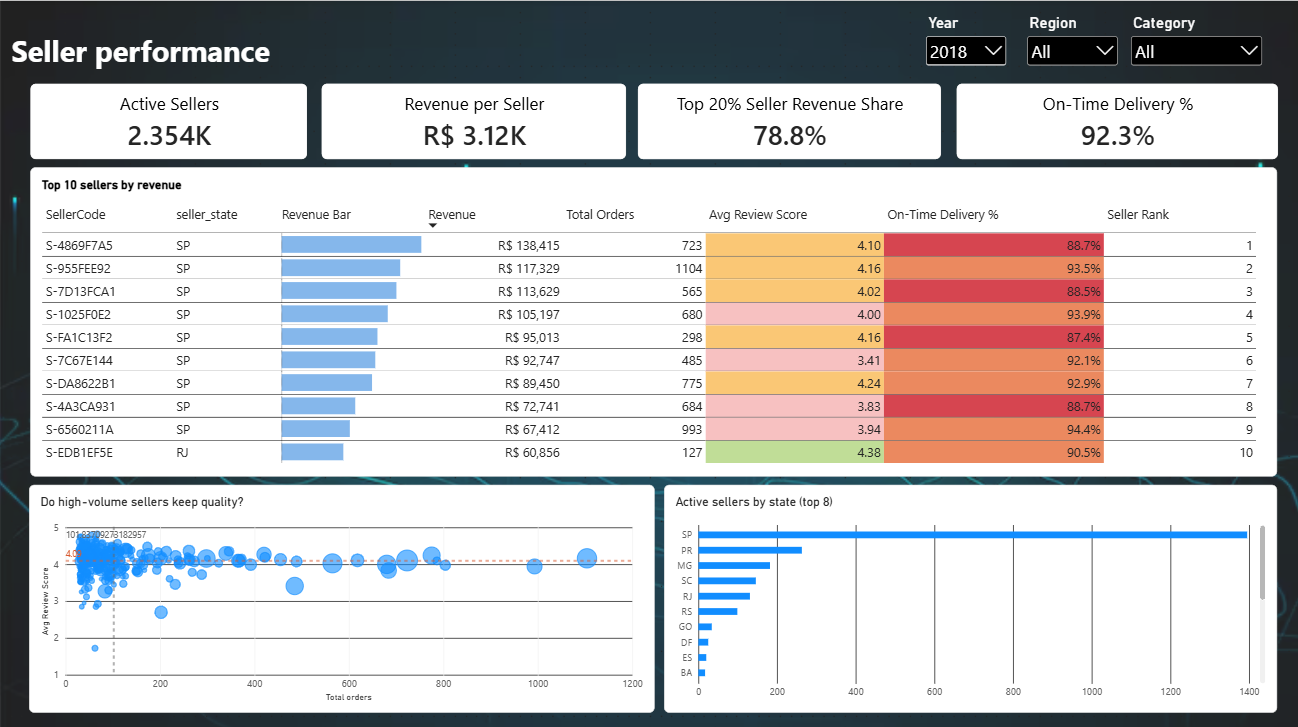

What the dashboard file says about the page in this screenshot:
{"tool":"powerbi","page":{"name":"Seller Performance","canvas":[1920,1080],"ordinal":2},"visuals":[{"type":"textbox","box":[18.8,45.2,512,73.4],"z":0},{"type":"slicer","fields":{"Values":["DimDate.Year"]},"box":[1364.6,18.3,128,100.6],"z":1000},{"type":"slicer","fields":{"Values":["DimState.Region"]},"box":[1513.8,18.5,143.1,101.6],"z":2000},{"type":"slicer","fields":{"Values":["DimProduct.Category"]},"box":[1666.3,18.3,203.1,84.9],"z":3000},{"type":"cardVisual","fields":{"Data":["_Measures.Active Sellers"]},"box":[46.1,121,409.1,112],"z":4000},{"type":"cardVisual","fields":{"Data":["_Measures.Revenue per Seller"]},"box":[476.2,121,450.3,112],"z":5000},{"type":"cardVisual","fields":{"Data":["_Measures.Top 20% Seller Revenue Share"]},"box":[942.7,121,448,112],"z":6000},{"type":"cardVisual","fields":{"Data":["_Measures.On-Time Delivery %"]},"box":[1415,121,475.4,112],"z":7000},{"type":"tableEx","title":"Top 10 sellers by revenue","fields":{"Values":["DimSeller.SellerCode","DimSeller.seller_state","DimDate.Revenue Bar","_Measures.Revenue","_Measures.Total Orders","_Measures.Avg Review Score","_Measures.On-Time Delivery %","_Measures.Seller Rank"]},"box":[46.1,245.8,1841.3,457],"z":8000},{"type":"scatterChart","title":"Do high-volume sellers keep quality?","fields":{"Category":["DimSeller.SellerCode"],"Size":["_Measures.Revenue"],"X":["_Measures.Total Orders"],"Y":["_Measures.Avg Review Score"]},"box":[45.2,715.3,924.2,336.9],"z":9000},{"type":"clusteredBarChart","title":"Active sellers by state (top 8)","fields":{"Category":["DimSeller.seller_state"],"Y":["_Measures.Active Sellers"]},"box":[982.6,715.3,905.4,336.9],"z":10000}]}

Visuals, with their boxes in screenshot pixels (x1, y1, x2, y2), scaled from the page's 1920x1080 canvas onto the 1298x727 screenshot:
textbox: pyautogui.locateOnScreen(13, 30, 359, 80)
slicer - DimDate.Year: pyautogui.locateOnScreen(923, 12, 1009, 80)
slicer - DimState.Region: pyautogui.locateOnScreen(1023, 12, 1120, 81)
slicer - DimProduct.Category: pyautogui.locateOnScreen(1126, 12, 1264, 69)
cardVisual - _Measures.Active Sellers: pyautogui.locateOnScreen(31, 81, 308, 157)
cardVisual - _Measures.Revenue per Seller: pyautogui.locateOnScreen(322, 81, 626, 157)
cardVisual - _Measures.Top 20% Seller Revenue Share: pyautogui.locateOnScreen(637, 81, 940, 157)
cardVisual - _Measures.On-Time Delivery %: pyautogui.locateOnScreen(957, 81, 1278, 157)
"Top 10 sellers by revenue" tableEx: pyautogui.locateOnScreen(31, 165, 1276, 473)
"Do high-volume sellers keep quality?" scatterChart: pyautogui.locateOnScreen(31, 482, 655, 708)
"Active sellers by state (top 8)" clusteredBarChart: pyautogui.locateOnScreen(664, 482, 1276, 708)
